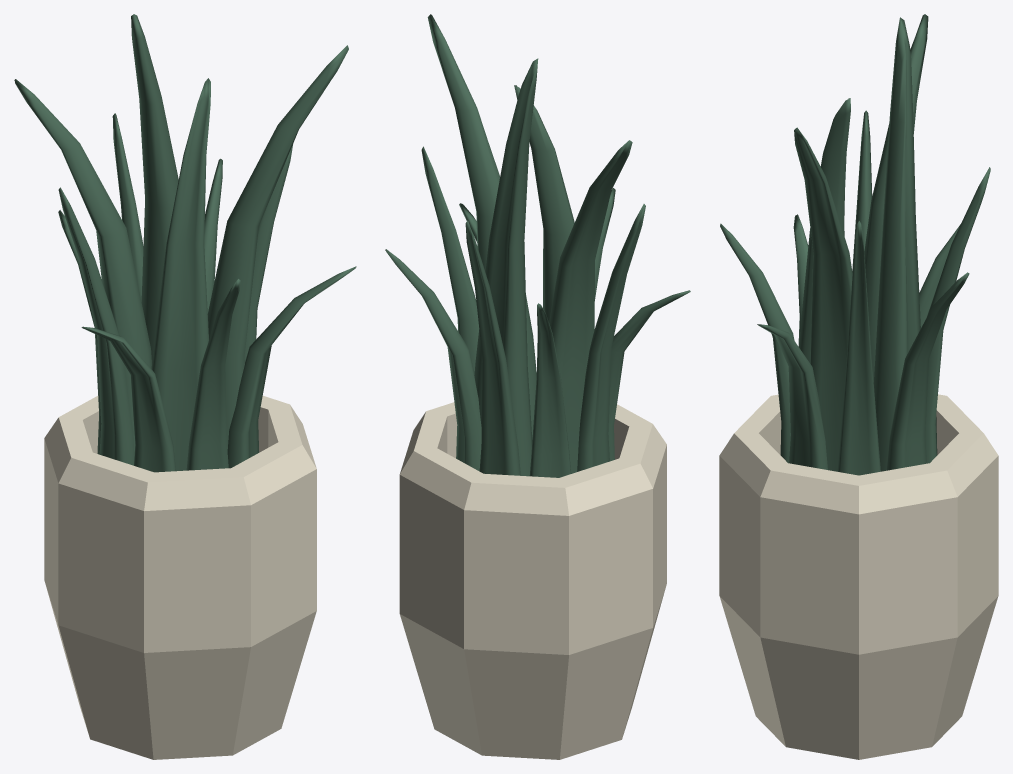
Rendered from pottedPlant_whitePot.fbx.
3 views of the same model, side by side, from view 1: azimuth 30°, elevation 25°; view 2: azimuth 150°, elevation 25°; view 3: azimuth 270°, elevation 25° (orthographic).
Parts seen in each view (by area): view 1: Cube.038; view 2: Cube.038; view 3: Cube.038.
Boxes of the visible parts, x1=… form: Cube.038: x1=14, y1=14, x2=356, y2=759; Cube.038: x1=385, y1=14, x2=690, y2=759; Cube.038: x1=719, y1=14, x2=998, y2=759.
Size of the model in its own units: 110 by 269 by 98.95.
